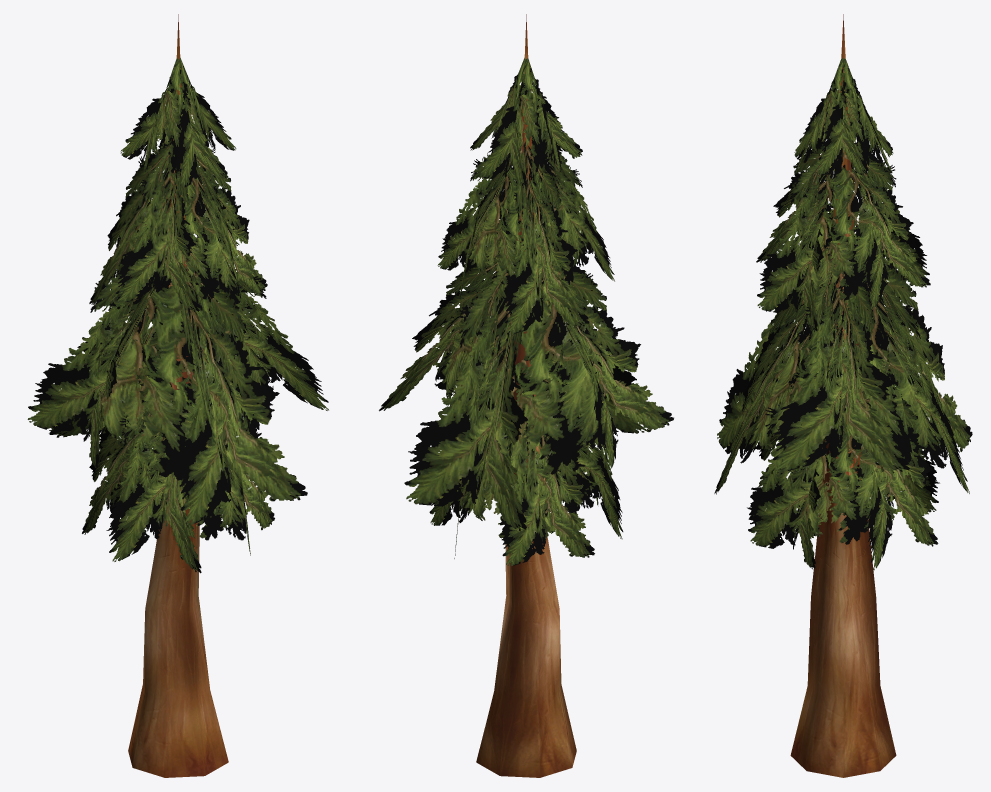
The model's file is tree1.obj.
3 renders of one model, left to right at view 1: azimuth 30°, elevation 25°; view 2: azimuth 150°, elevation 25°; view 3: azimuth 270°, elevation 25°, orthographic.
Parts seen in each view (by area): view 1: Geoset_1, Geoset_0; view 2: Geoset_1, Geoset_0; view 3: Geoset_1, Geoset_0.
Boxes of the visible parts, <box> form: Geoset_1: <box>27,57,328,573</box>; Geoset_0: <box>128,14,228,777</box>; Geoset_1: <box>379,57,673,565</box>; Geoset_0: <box>476,14,576,777</box>; Geoset_1: <box>714,58,972,570</box>; Geoset_0: <box>790,14,896,777</box>.
Size of the model in its own units: 40.85 by 118 by 38.42.
Materials: 2 (2 with a texture image).
